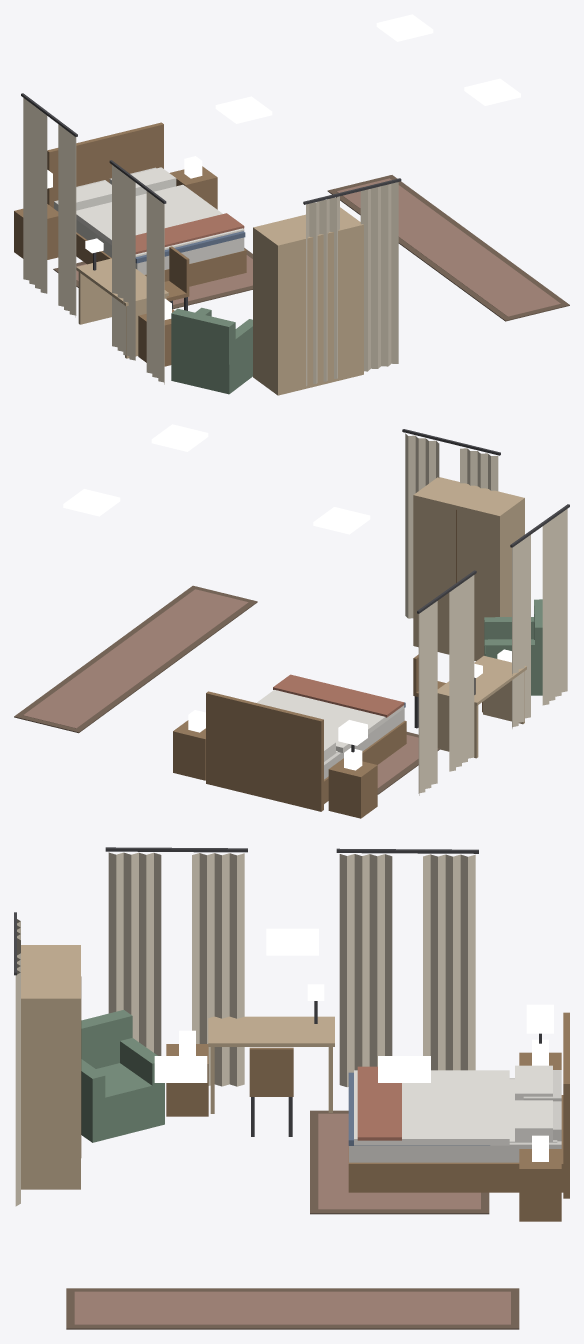
File: fine-s1.glb
3 renders of one model, top to bottom at view 1: azimuth 30°, elevation 25°; view 2: azimuth 150°, elevation 25°; view 3: azimuth 270°, elevation 25°, orthographic. The views are drawn at different scales.
Parts seen in each view (by area): view 1: soft-s1, dresser.000, bed-frame.000, lounge-chair.000, writing-desk.000, nightstand.001, cafe-chair.000, nightstand.000, ceiling-lamp.002, ceiling-lamp.004, ceiling-lamp.003, side-table.000; view 2: soft-s1, dresser.000, bed-frame.000, writing-desk.000, nightstand.000, lounge-chair.000, nightstand.001, ceiling-lamp.003, ceiling-lamp.002, ceiling-lamp.004; view 3: soft-s1, dresser.000, bed-frame.000, lounge-chair.000, writing-desk.000, nightstand.001, cafe-chair.000, side-table.000, ceiling-lamp.004, ceiling-lamp.003, ceiling-lamp.002, nightstand.000.
Boxes of the visible parts, x1,y1,x2,y2 form: soft-s1: [21, 93, 569, 386]; dresser.000: [253, 207, 363, 395]; bed-frame.000: [47, 122, 246, 286]; lounge-chair.000: [171, 307, 252, 394]; writing-desk.000: [76, 238, 168, 358]; nightstand.001: [169, 156, 217, 209]; cafe-chair.000: [164, 246, 189, 310]; nightstand.000: [14, 204, 58, 259]; ceiling-lamp.002: [376, 14, 433, 41]; ceiling-lamp.004: [215, 96, 272, 123]; ceiling-lamp.003: [464, 78, 520, 105]; side-table.000: [138, 298, 174, 366]; soft-s1: [14, 429, 569, 795]; dresser.000: [413, 477, 524, 660]; bed-frame.000: [206, 691, 406, 811]; writing-desk.000: [437, 656, 526, 758]; nightstand.000: [328, 748, 377, 818]; lounge-chair.000: [484, 599, 542, 695]; nightstand.001: [173, 710, 205, 780]; ceiling-lamp.003: [151, 424, 208, 451]; ceiling-lamp.002: [63, 489, 120, 516]; ceiling-lamp.004: [313, 507, 370, 534]; soft-s1: [14, 847, 557, 1329]; dresser.000: [21, 945, 81, 1189]; bed-frame.000: [348, 1012, 569, 1198]; lounge-chair.000: [81, 1010, 164, 1142]; writing-desk.000: [208, 984, 334, 1113]; nightstand.001: [519, 1135, 561, 1221]; cafe-chair.000: [249, 1047, 293, 1136]; side-table.000: [166, 1030, 208, 1116]; ceiling-lamp.004: [266, 928, 318, 955]; ceiling-lamp.003: [154, 1056, 207, 1082]; ceiling-lamp.002: [378, 1056, 430, 1082]; nightstand.000: [519, 1039, 561, 1069].
Bounding box in the file's own units: 5.45 × 2.54 × 5.27.
